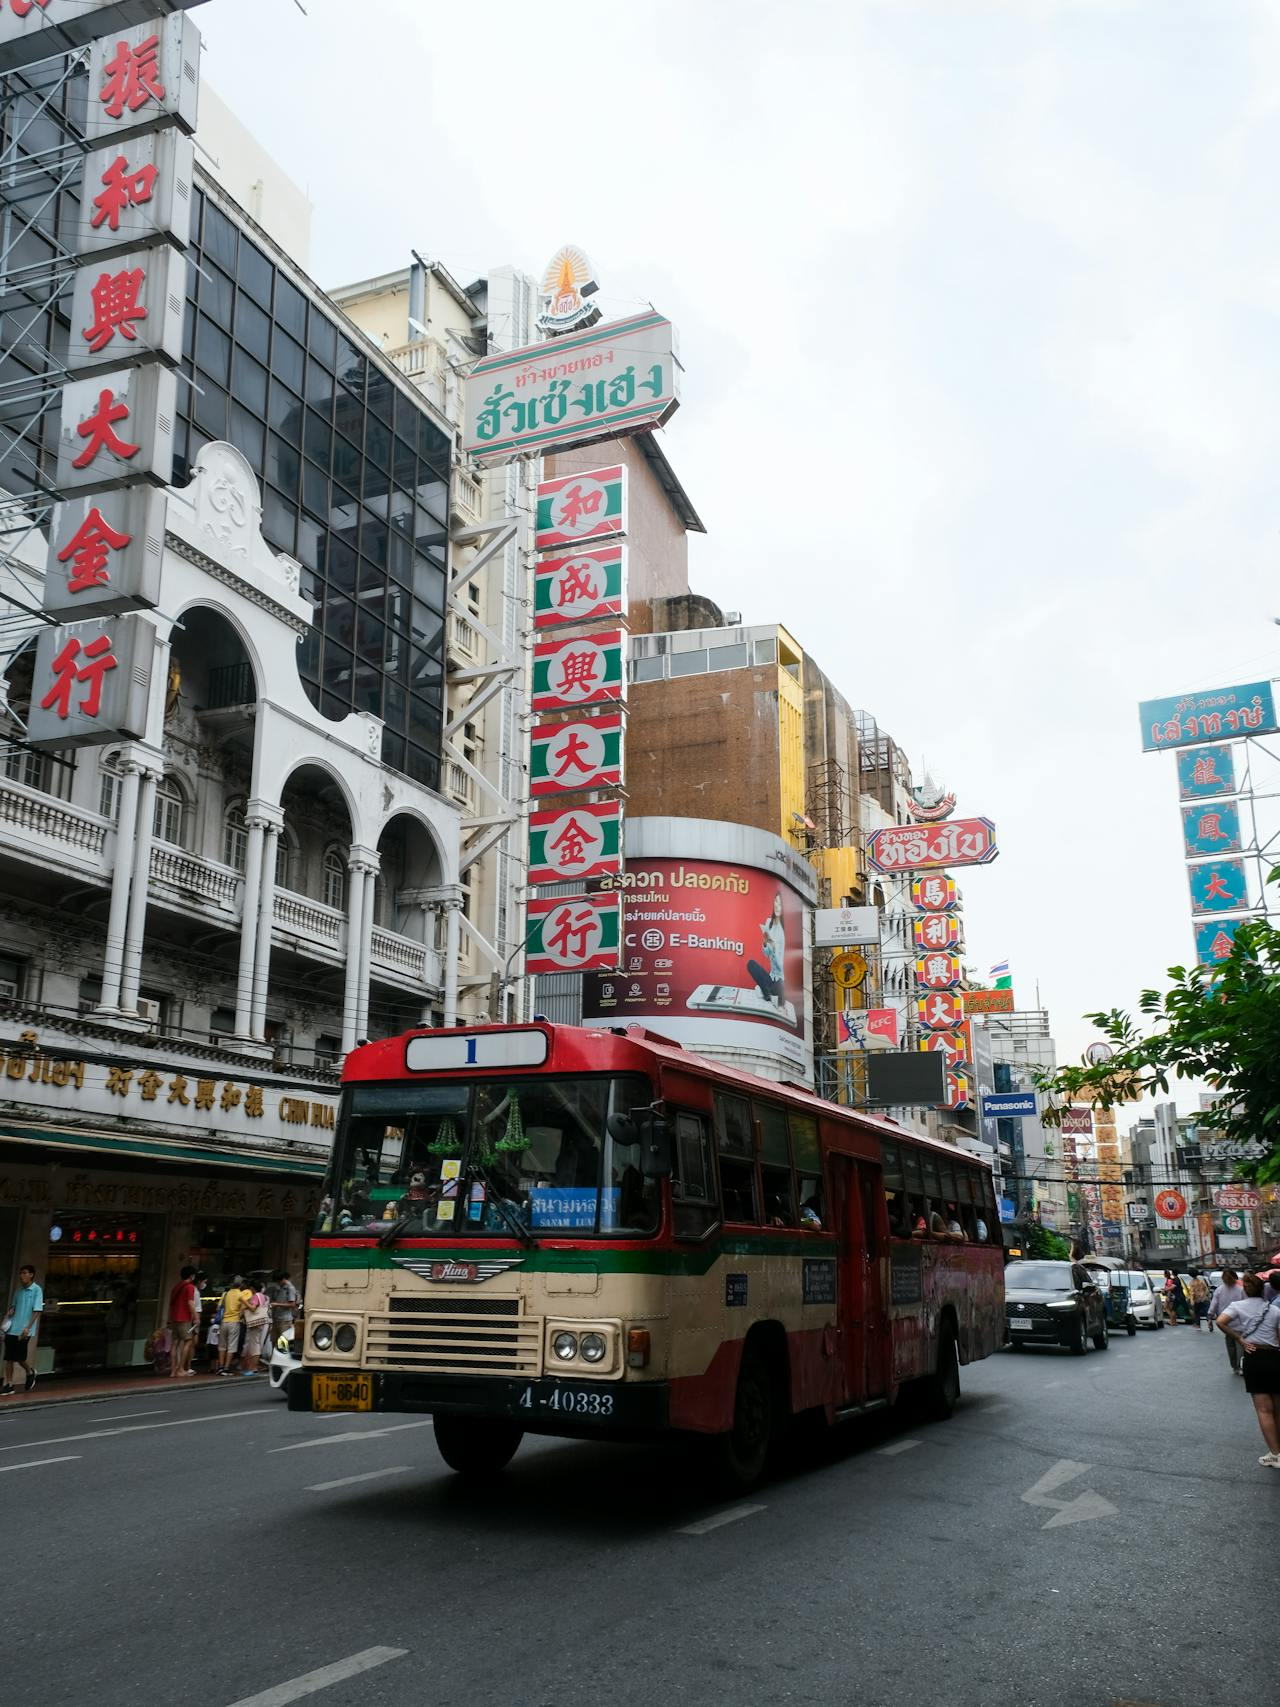bus: (273, 973, 1016, 1470)
